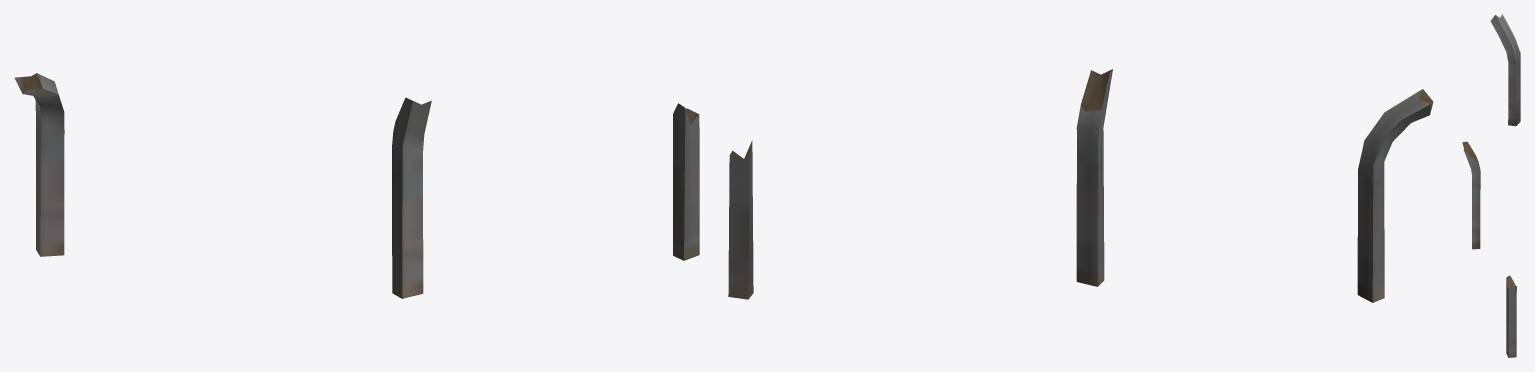
Rendered from staircase_spiral01_stair01_base.glb.
3 renders of one model, left to right at view 1: azimuth 30°, elevation 25°; view 2: azimuth 150°, elevation 25°; view 3: azimuth 270°, elevation 25°, orthographic. The views are drawn at different scales.
Visible parts, largest first — view 1: staircase_spiral01_stair01_base; view 2: staircase_spiral01_stair01_base; view 3: staircase_spiral01_stair01_base.
Part boxes in pixels (<box>): staircase_spiral01_stair01_base: <box>14,73,699,298</box>; staircase_spiral01_stair01_base: <box>728,69,1433,302</box>; staircase_spiral01_stair01_base: <box>1462,14,1520,357</box>.
Bounding box in the file's own units: 1.19 × 0.5864 × 0.1742.
1 material, 1 textured.
